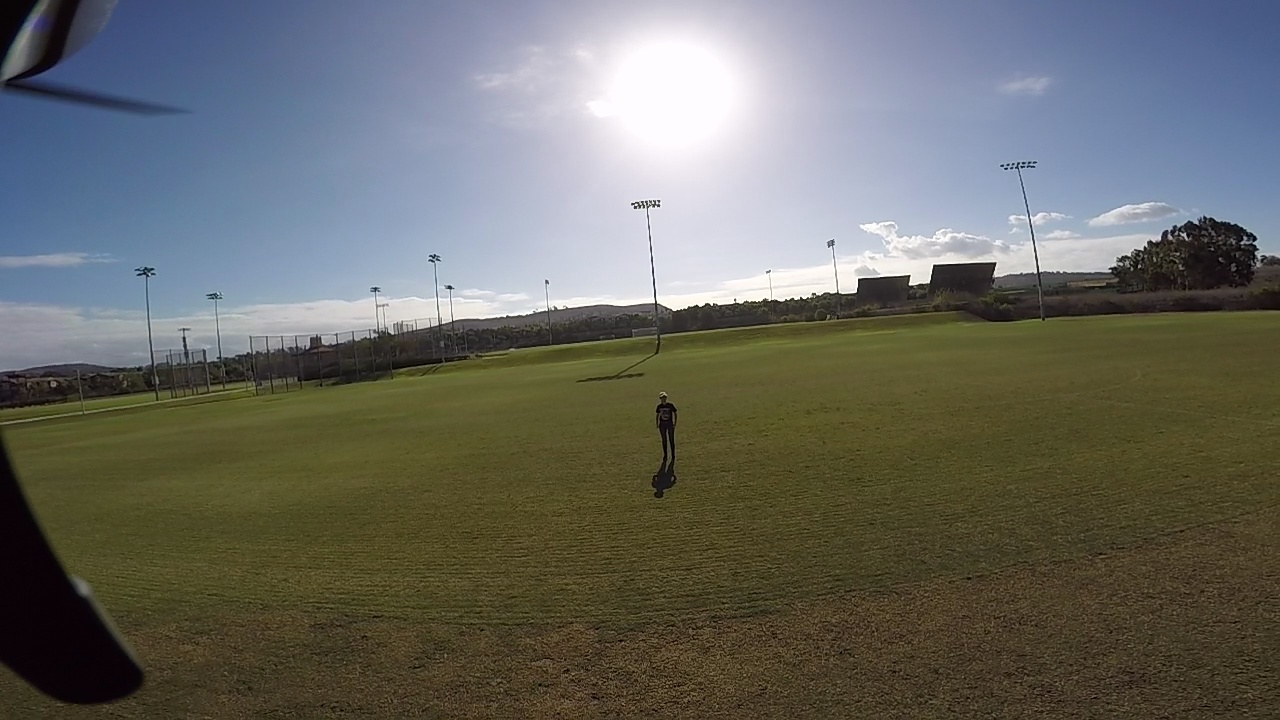person: (647, 385, 674, 490)
